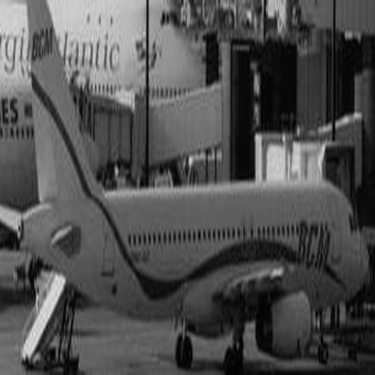airplane: (8, 6, 370, 371), (1, 2, 217, 133), (3, 65, 106, 226)
